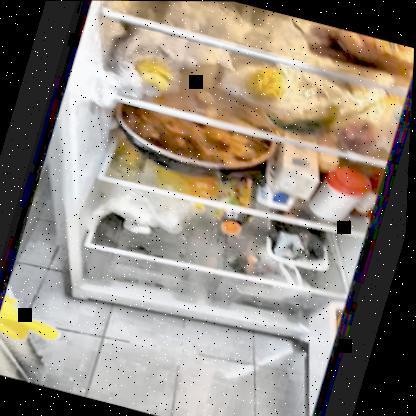broccoli: (266, 226, 338, 276)
carrot: (291, 19, 414, 81)
green_chillies: (260, 100, 334, 140)
lemon: (130, 51, 179, 94), (242, 65, 290, 105)
milk: (261, 142, 327, 214)
tomato: (338, 113, 386, 150)
